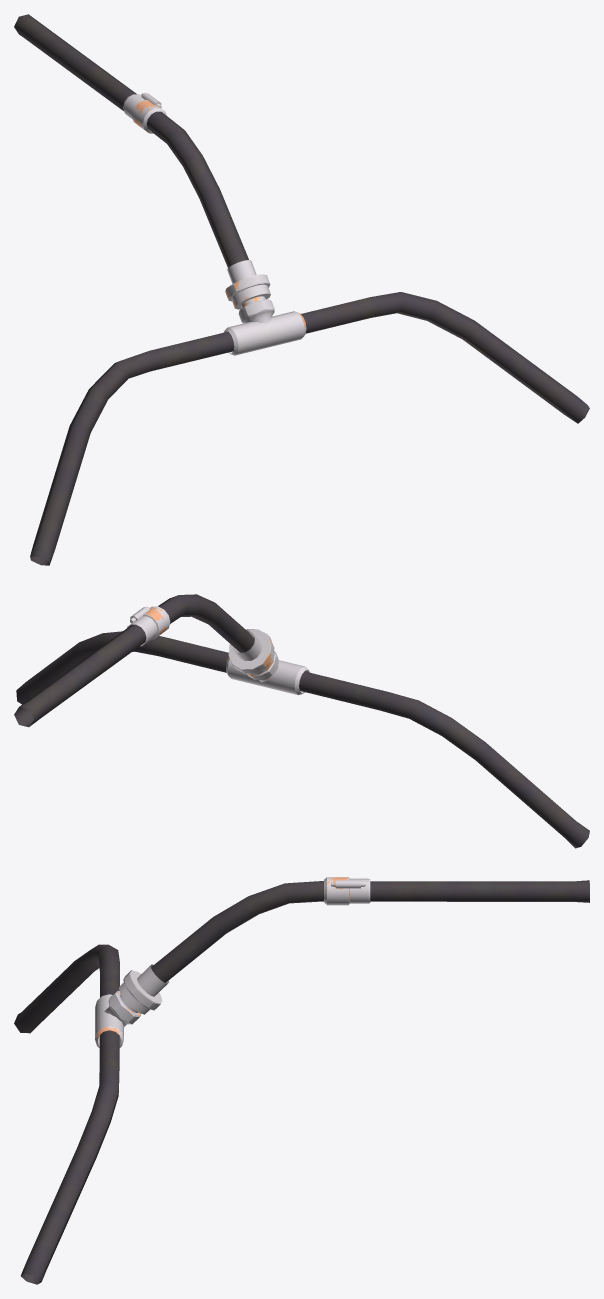
The model's file is Pipes_2.fbx.
3 renders of one model, top to bottom at view 1: azimuth 30°, elevation 25°; view 2: azimuth 150°, elevation 25°; view 3: azimuth 270°, elevation 25°, orthographic.
Parts seen in each view (by area): view 1: Pipes_2; view 2: Pipes_2; view 3: Pipes_2.
Boxes of the visible parts, box(x1,y1,x2,y2) form: Pipes_2: box(14, 14, 589, 565); Pipes_2: box(14, 594, 589, 848); Pipes_2: box(14, 877, 589, 1284).
Size of the model in its own units: 126 by 61.14 by 112.
